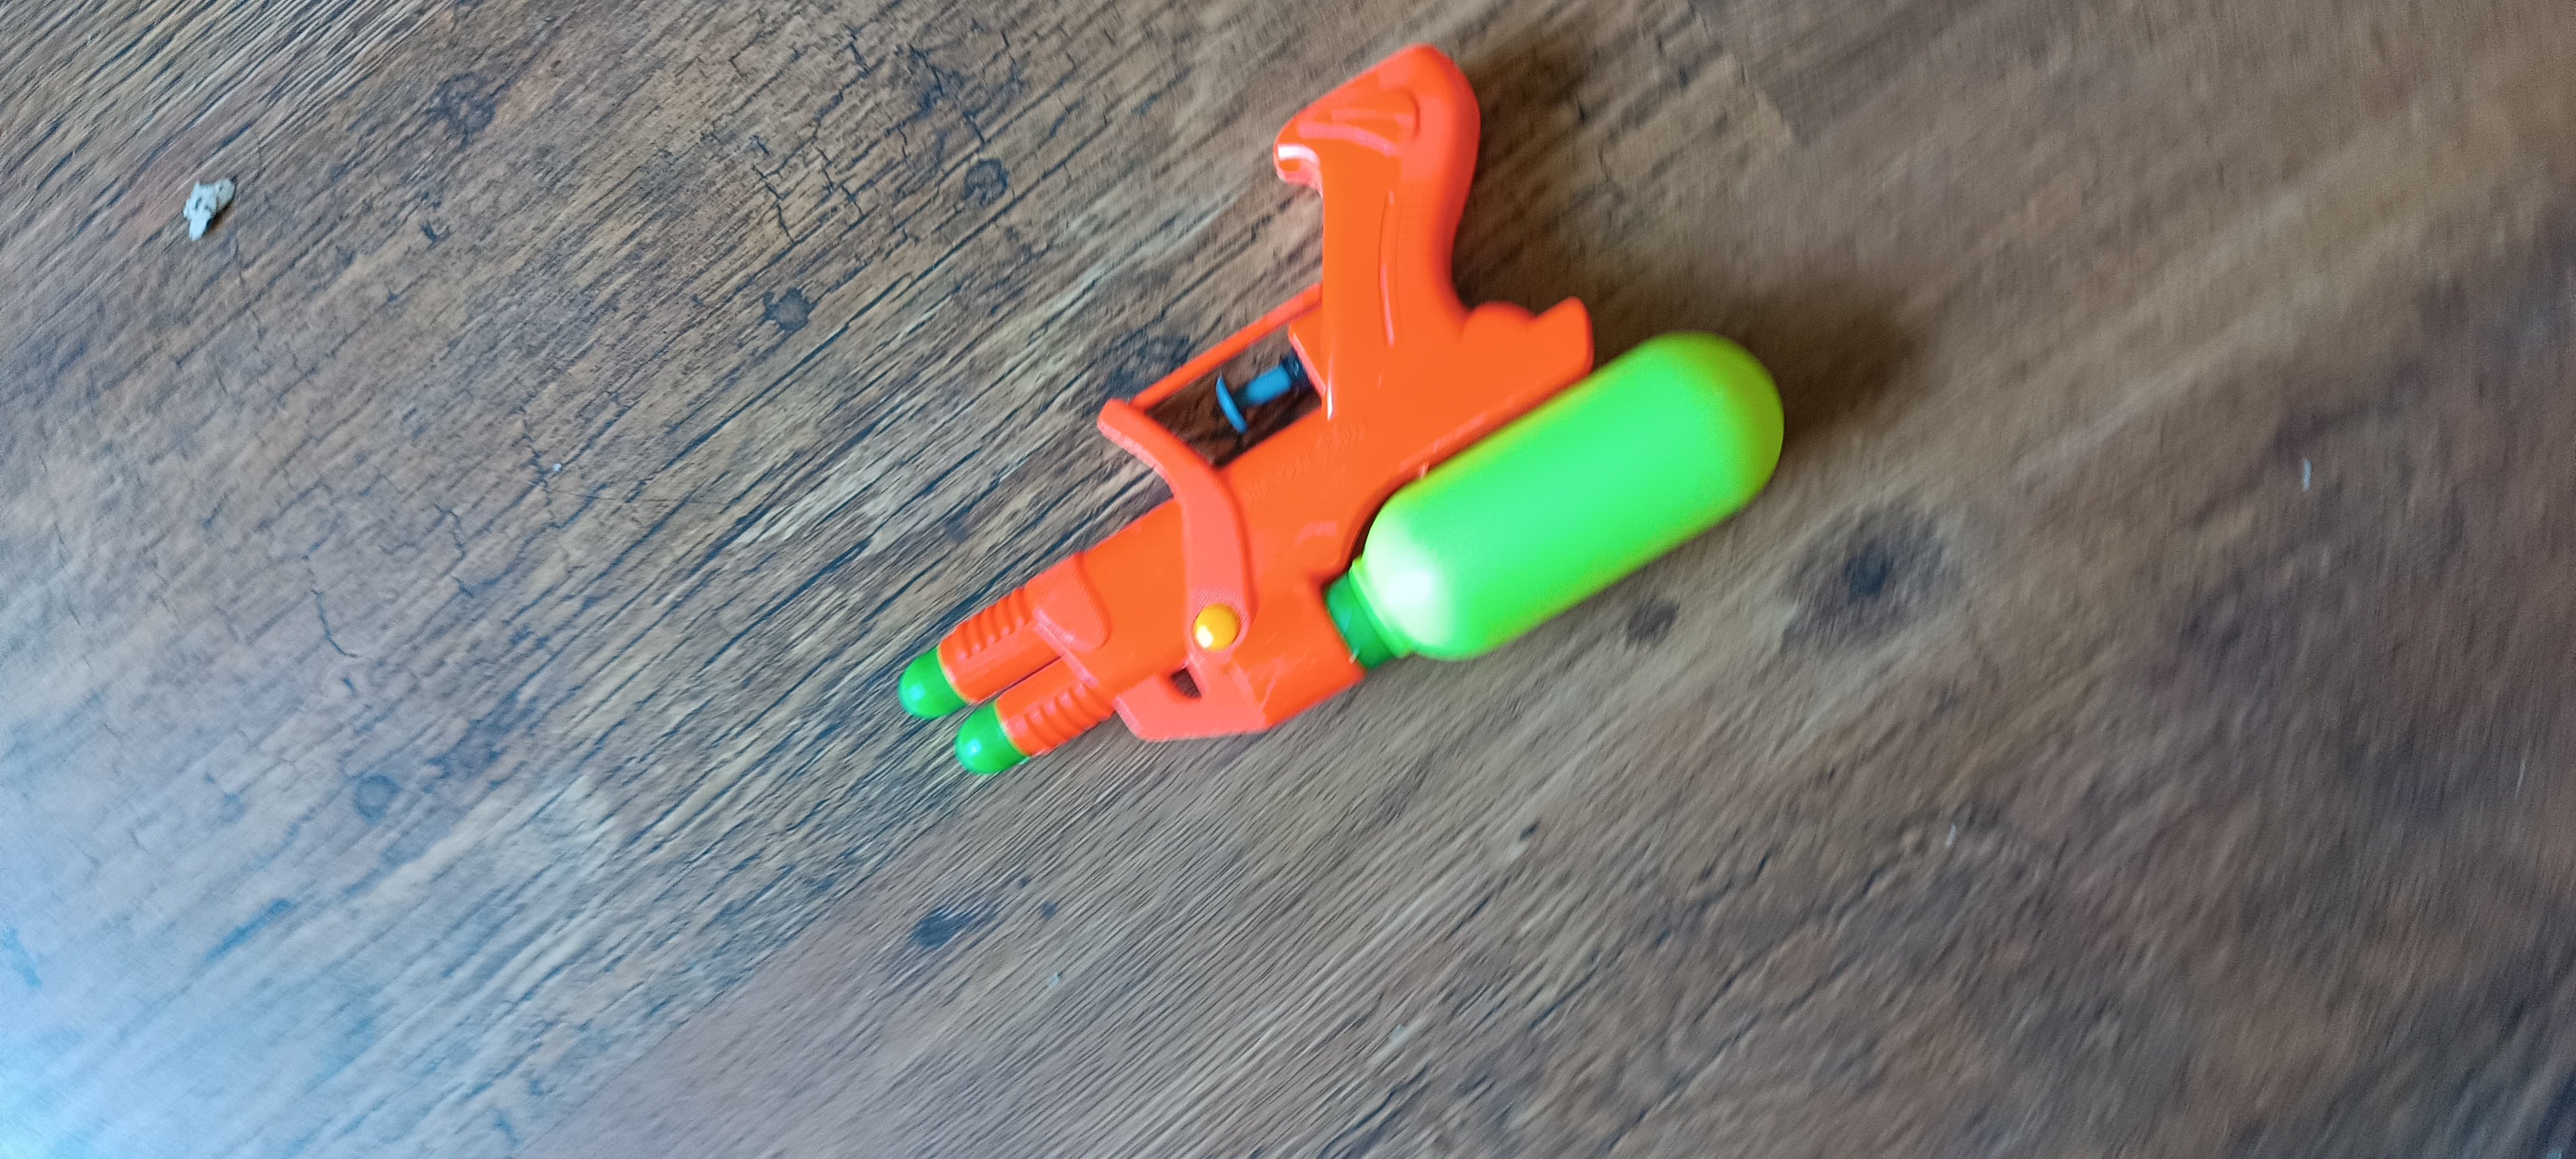Water Gun: (895, 44, 1782, 776)
